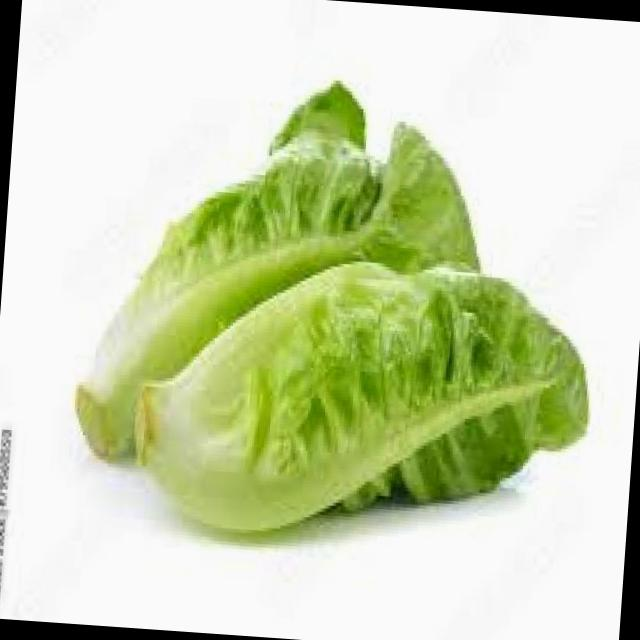Lettuce-Ready-to-Harvest: (82, 82, 478, 457), (145, 261, 587, 530)
